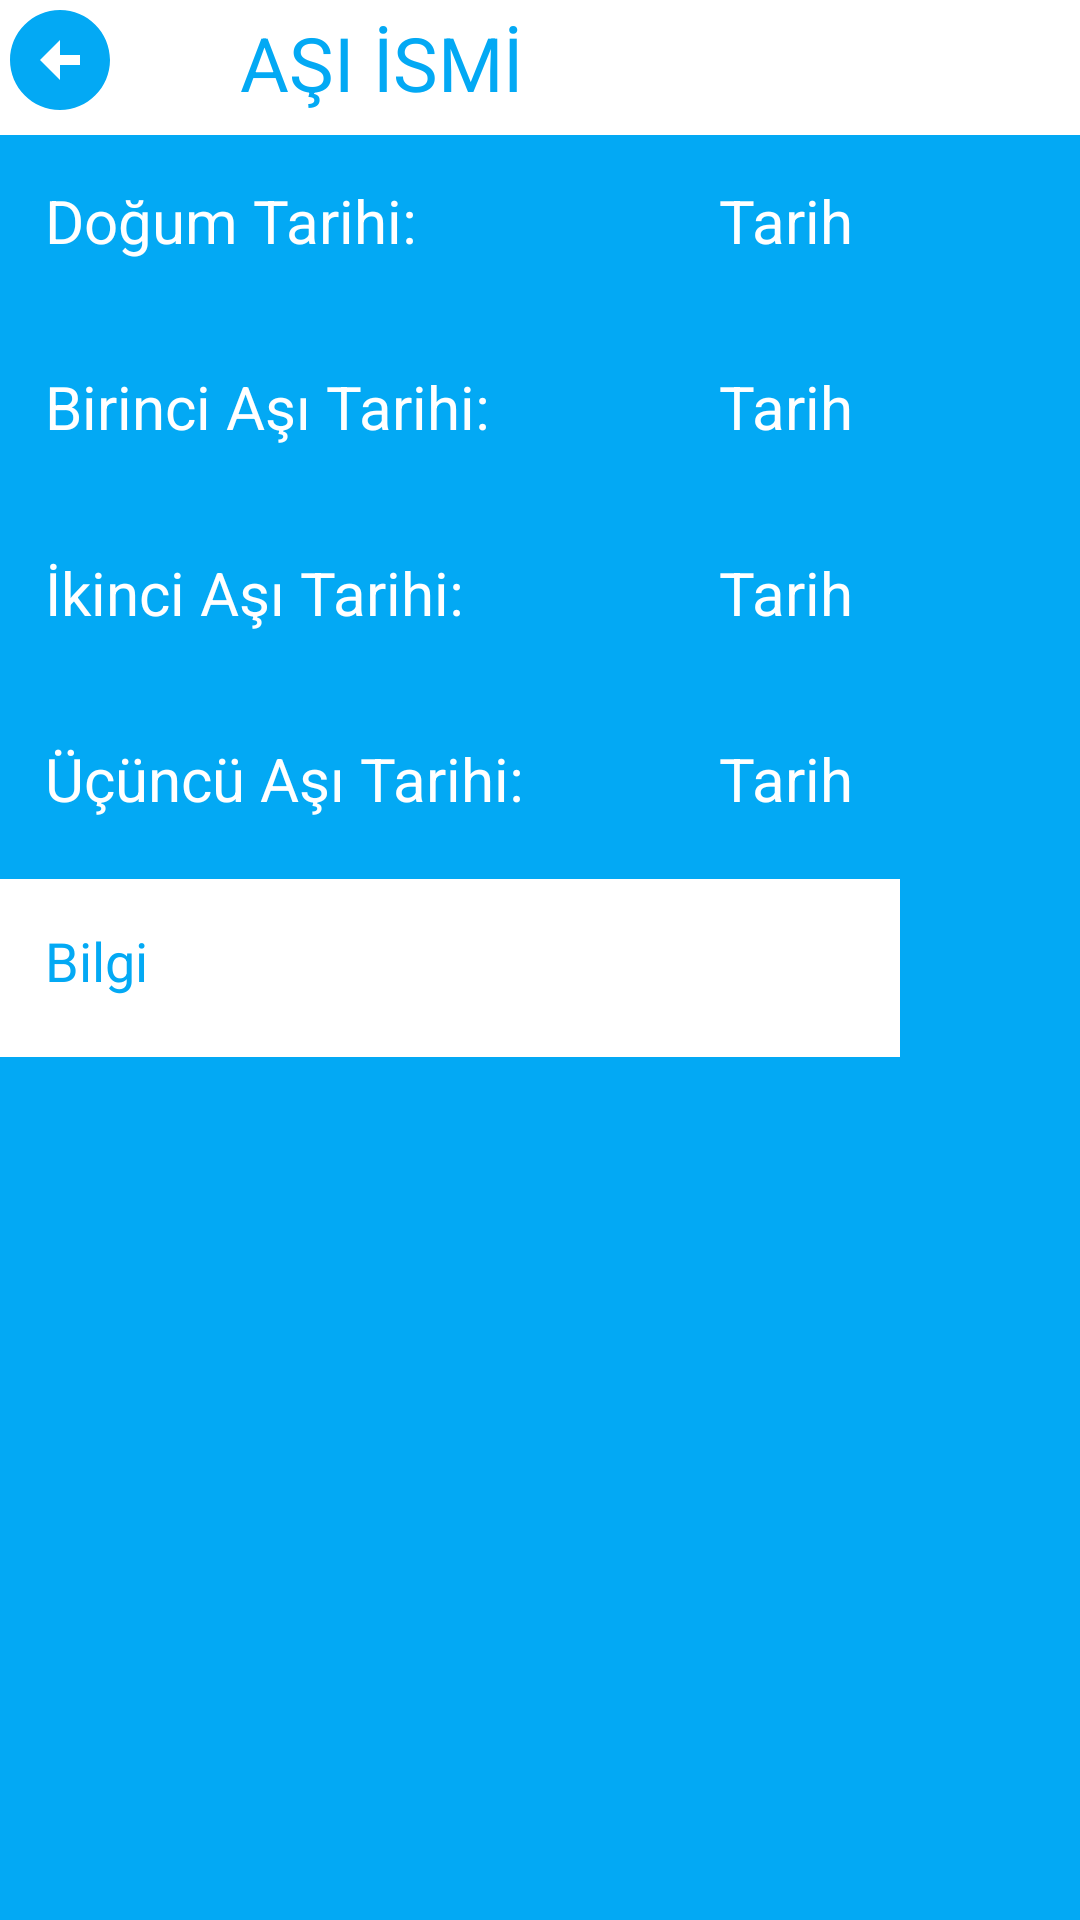

Screen size 1080w x 1920h. Icon name, then its box in pixels as region(x1, y1, x2, y2):
left arrow: region(10, 10, 110, 110)
